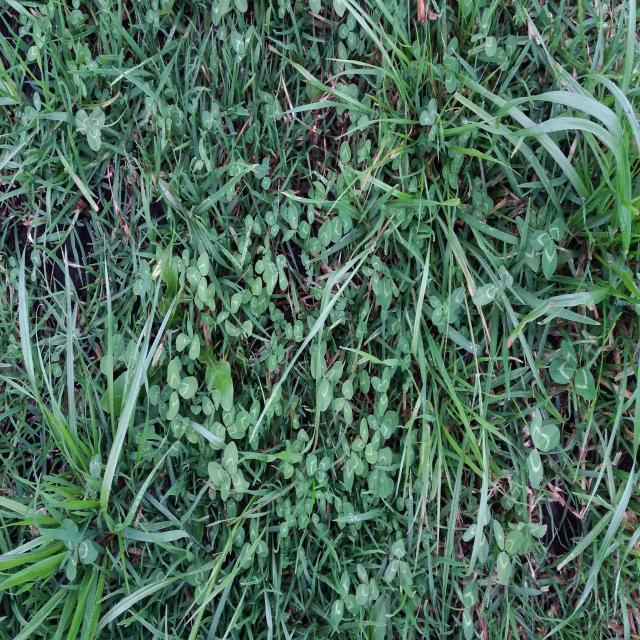Four Leaf Clover: (208, 441, 250, 502), (262, 253, 288, 296)
